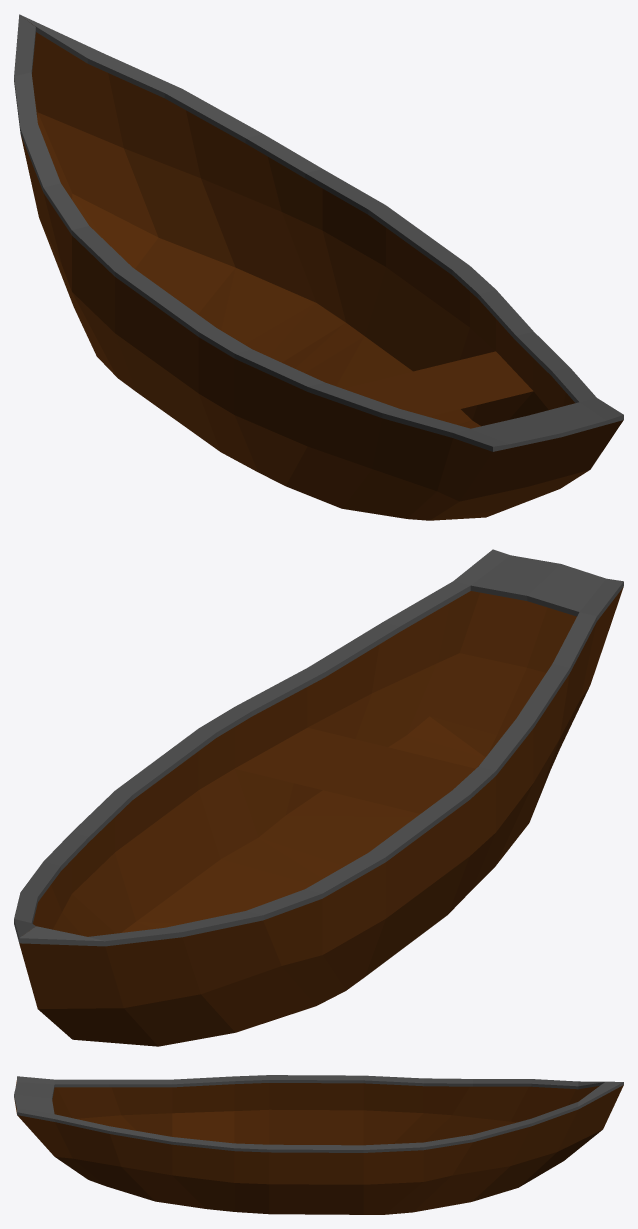
The model's file is LowPolyBoat_v3.fbx.
3 views of the same model, one above another, from view 1: azimuth 30°, elevation 25°; view 2: azimuth 150°, elevation 25°; view 3: azimuth 270°, elevation 25° (orthographic). The views are drawn at different scales.
Parts seen in each view (by area): view 1: Cube; view 2: Cube; view 3: Cube.
Boxes of the visible parts, x1,y1,x2,y2 form: Cube: [14, 14, 623, 520]; Cube: [14, 549, 623, 1046]; Cube: [14, 1075, 623, 1214].
Bounding box in the file's own units: 289 × 215 × 999.
